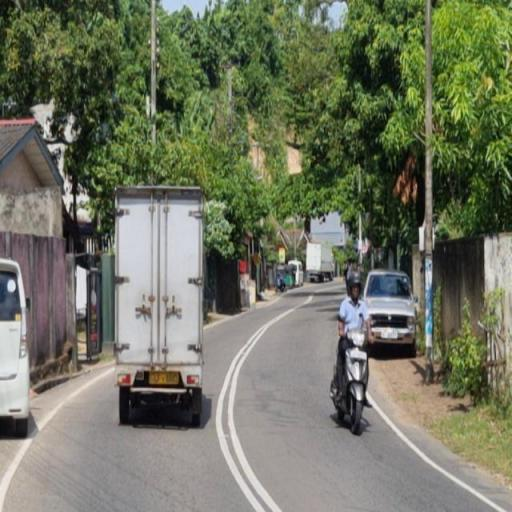double_white_line: (368, 390, 507, 512), (214, 301, 280, 512)
